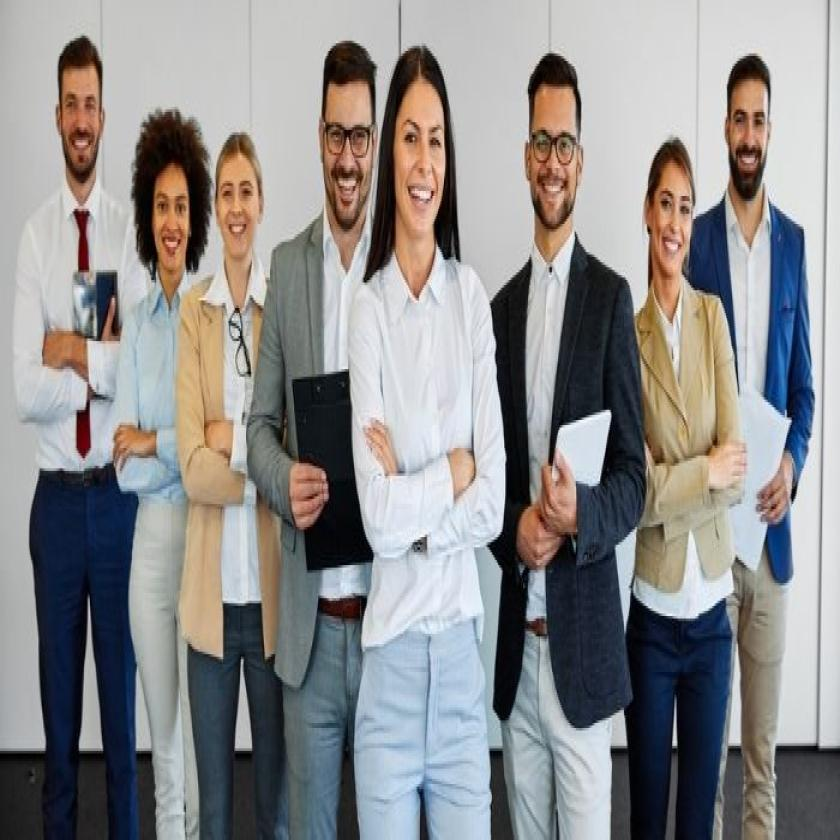Sin_casco: (513, 17, 598, 231), (126, 96, 208, 274), (314, 20, 375, 242), (387, 37, 455, 234), (48, 20, 114, 206), (718, 22, 784, 200), (634, 115, 700, 278), (216, 113, 266, 275)
